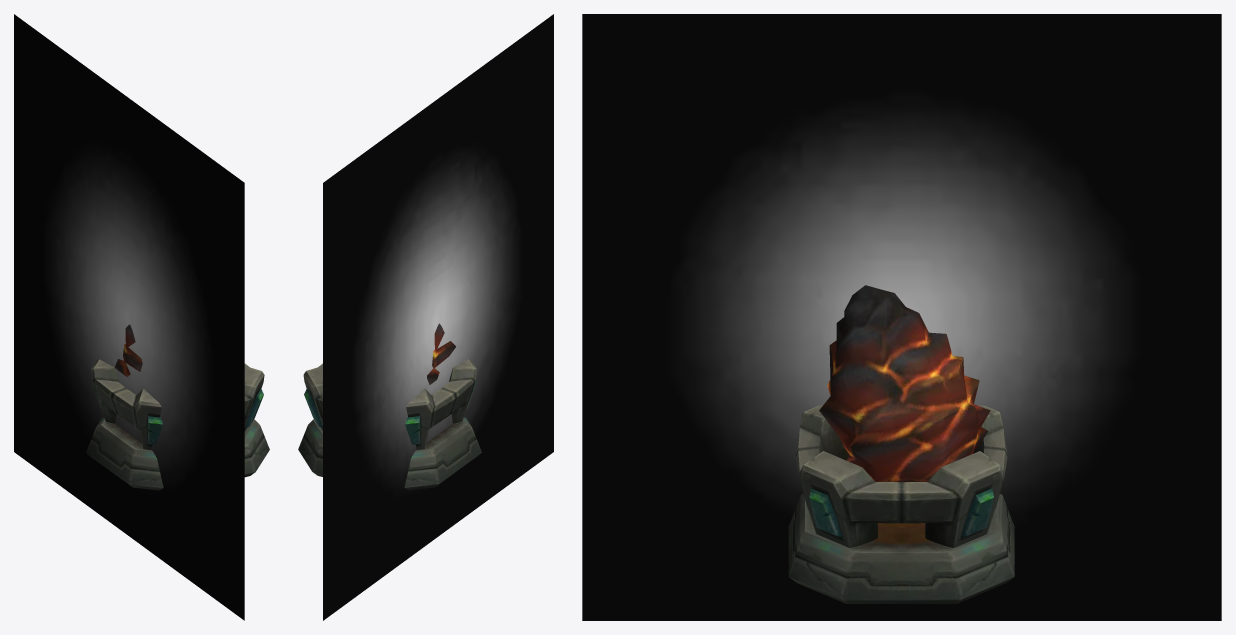
The picture shows the model from 3 angles, left to right: view 1: azimuth 30°, elevation 25°; view 2: azimuth 150°, elevation 25°; view 3: azimuth 270°, elevation 25°; orthographic projection. The views are drawn at different scales.
Bounding box in the file's own units: 0.724 × 2.15 × 2.05.
3 materials, 3 textured.
